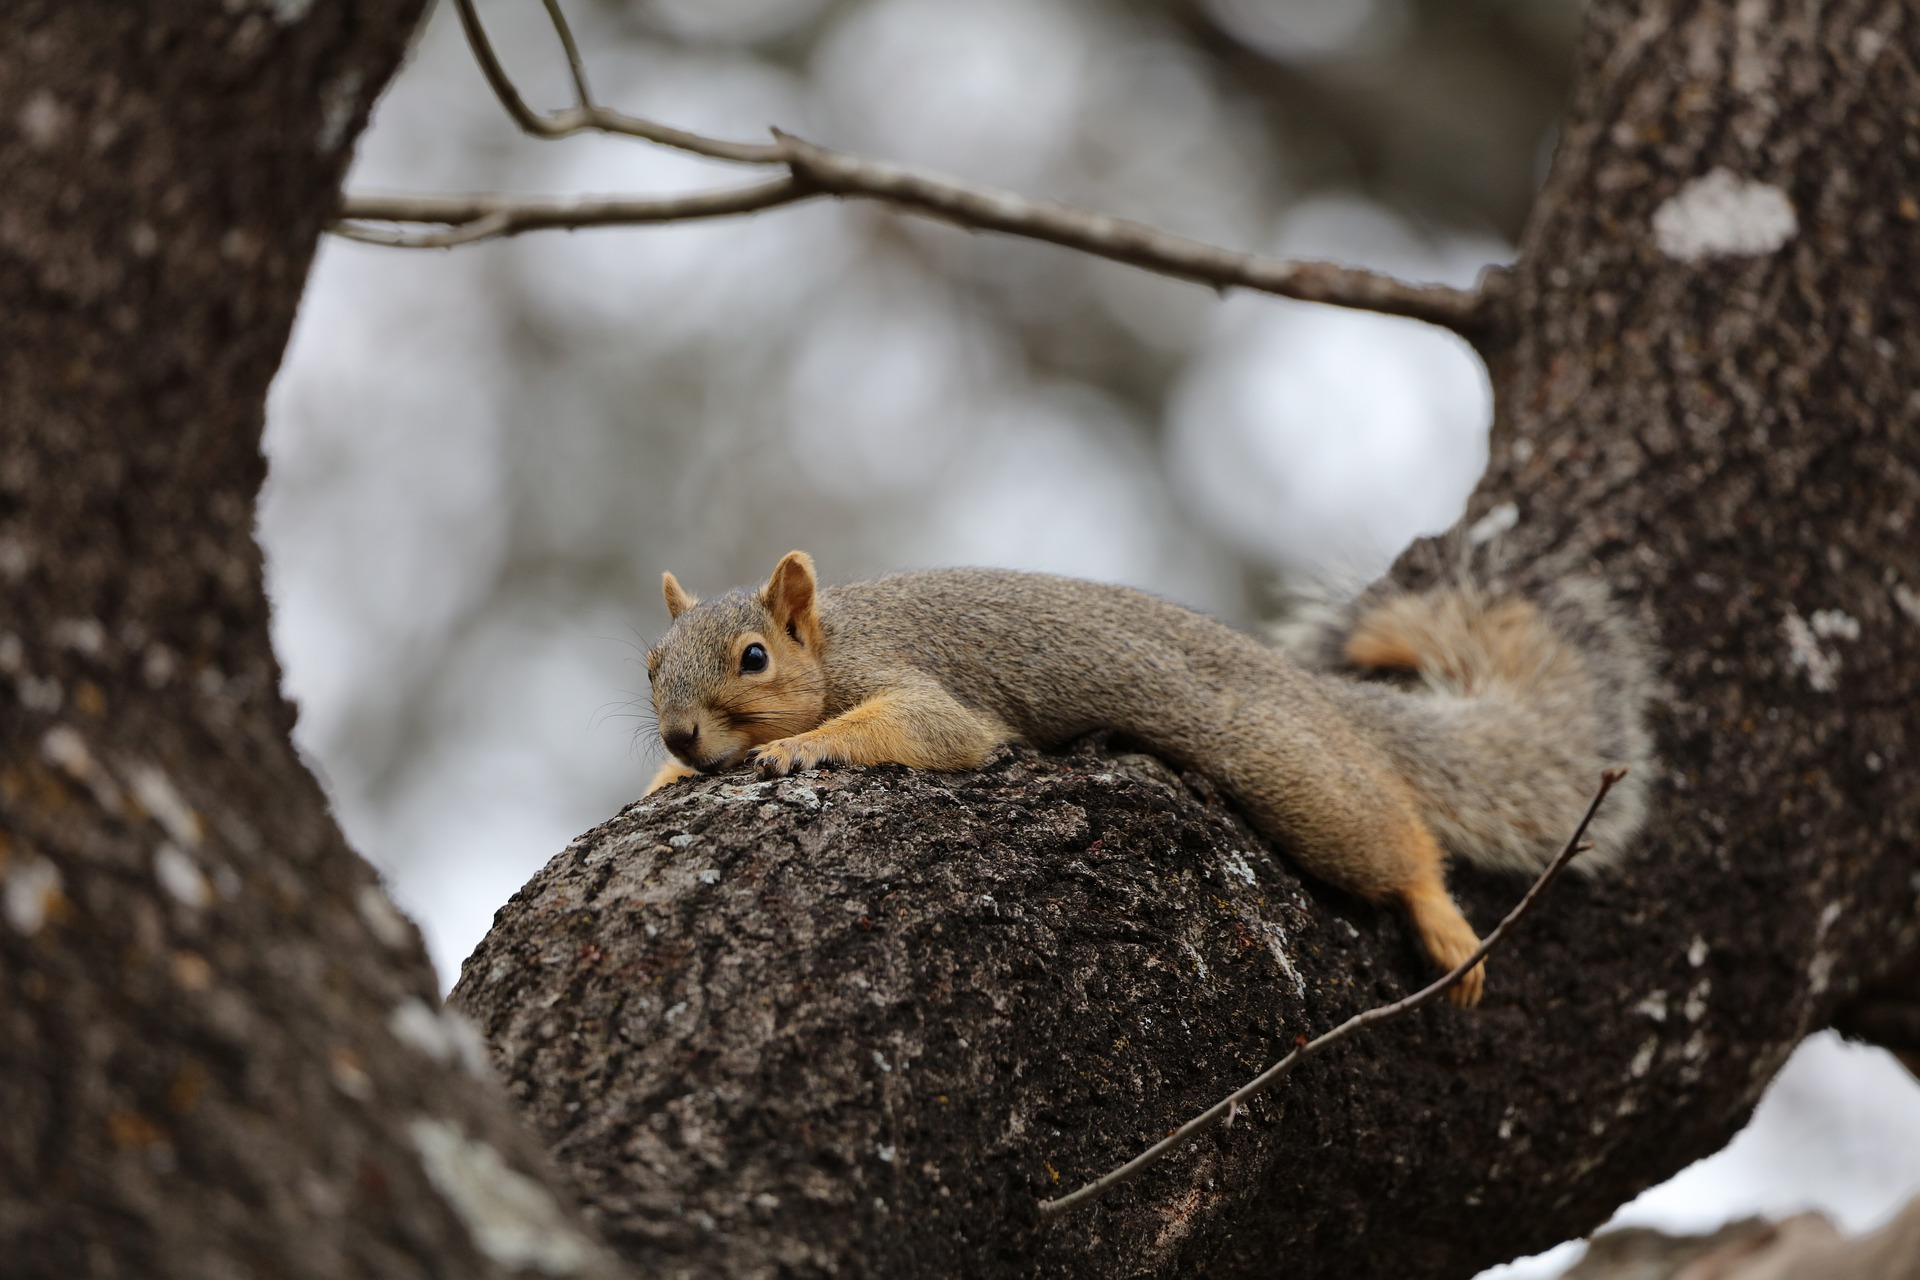squirrel: (626, 526, 1631, 1011)
